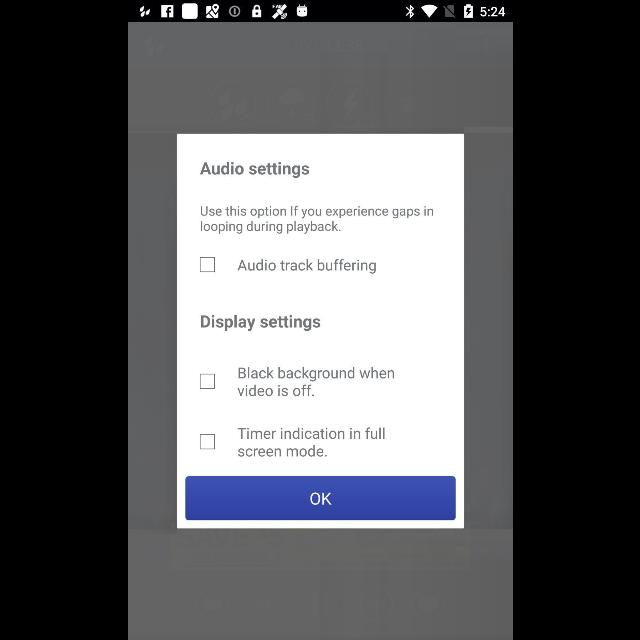checkbox: (198, 258, 214, 272), (198, 374, 214, 388), (200, 434, 214, 450)
panel: (176, 133, 464, 529)
text: (200, 206, 432, 234), (236, 368, 394, 397), (237, 427, 385, 457), (200, 314, 320, 332), (237, 260, 375, 274), (199, 162, 309, 178)
textbutton: (185, 476, 455, 520)
uppertaskbar: (128, 1, 512, 23)
